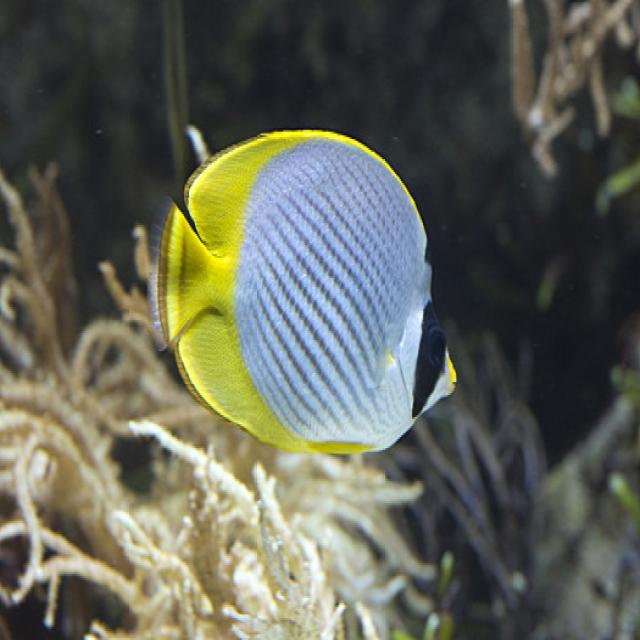ButterflyFish: (160, 133, 455, 455)
